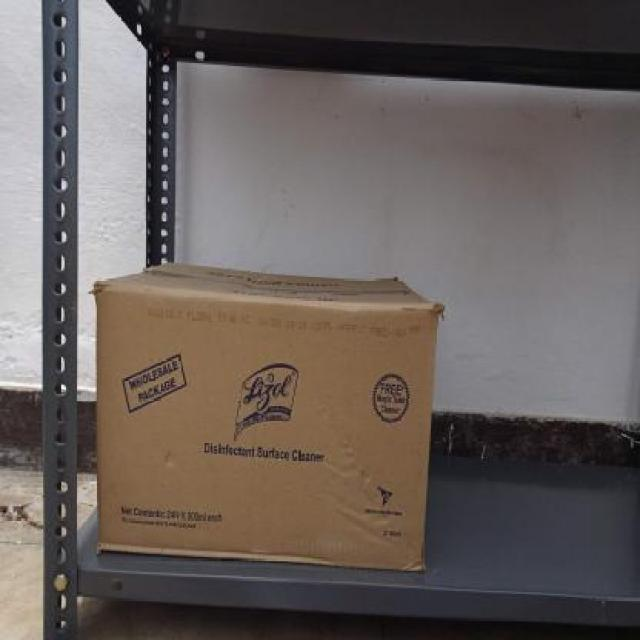box: (94, 281, 430, 574)
